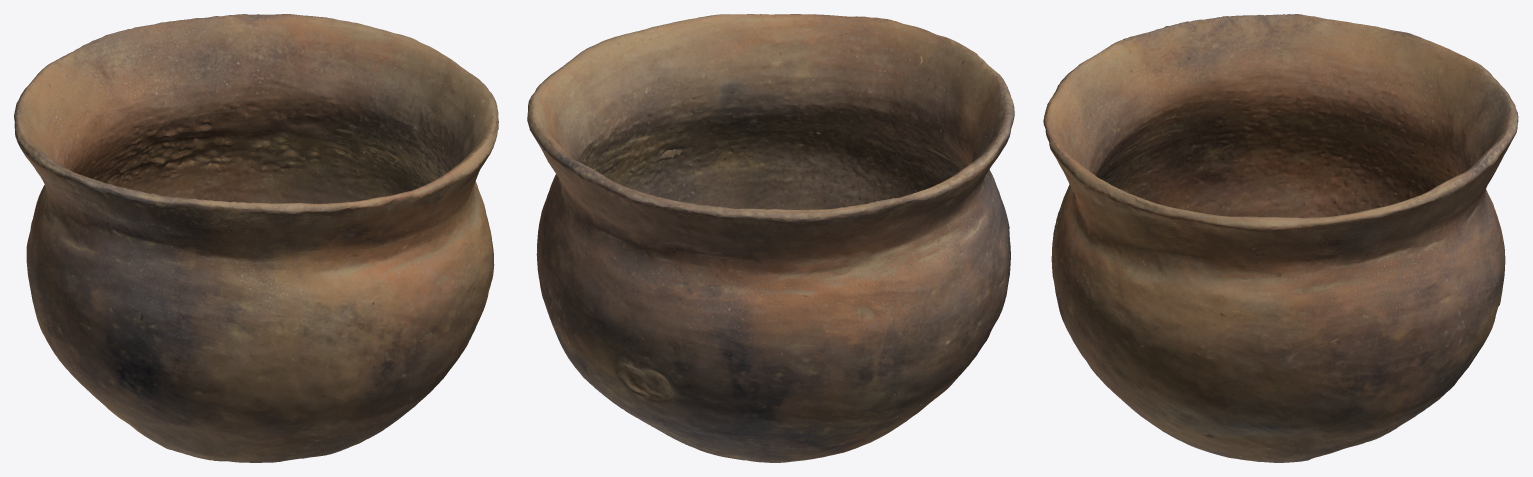
File: obj_oldtown_plain_jar_2270p1858_84098e.glb
3 renders of one model, left to right at view 1: azimuth 30°, elevation 25°; view 2: azimuth 150°, elevation 25°; view 3: azimuth 270°, elevation 25°, orthographic. The views are drawn at different scales.
Parts seen in each view (by area): view 1: obj_oldtown_plain_jar_2270p1858_84098e; view 2: obj_oldtown_plain_jar_2270p1858_84098e; view 3: obj_oldtown_plain_jar_2270p1858_84098e.
Boxes of the visible parts, <box> form: obj_oldtown_plain_jar_2270p1858_84098e: <box>14,14,498,462</box>; obj_oldtown_plain_jar_2270p1858_84098e: <box>527,14,1014,462</box>; obj_oldtown_plain_jar_2270p1858_84098e: <box>1043,14,1518,462</box>.
Size of the model in its own units: 0.3 by 0.217 by 0.2975.
Materials: 1 (1 with a texture image).
